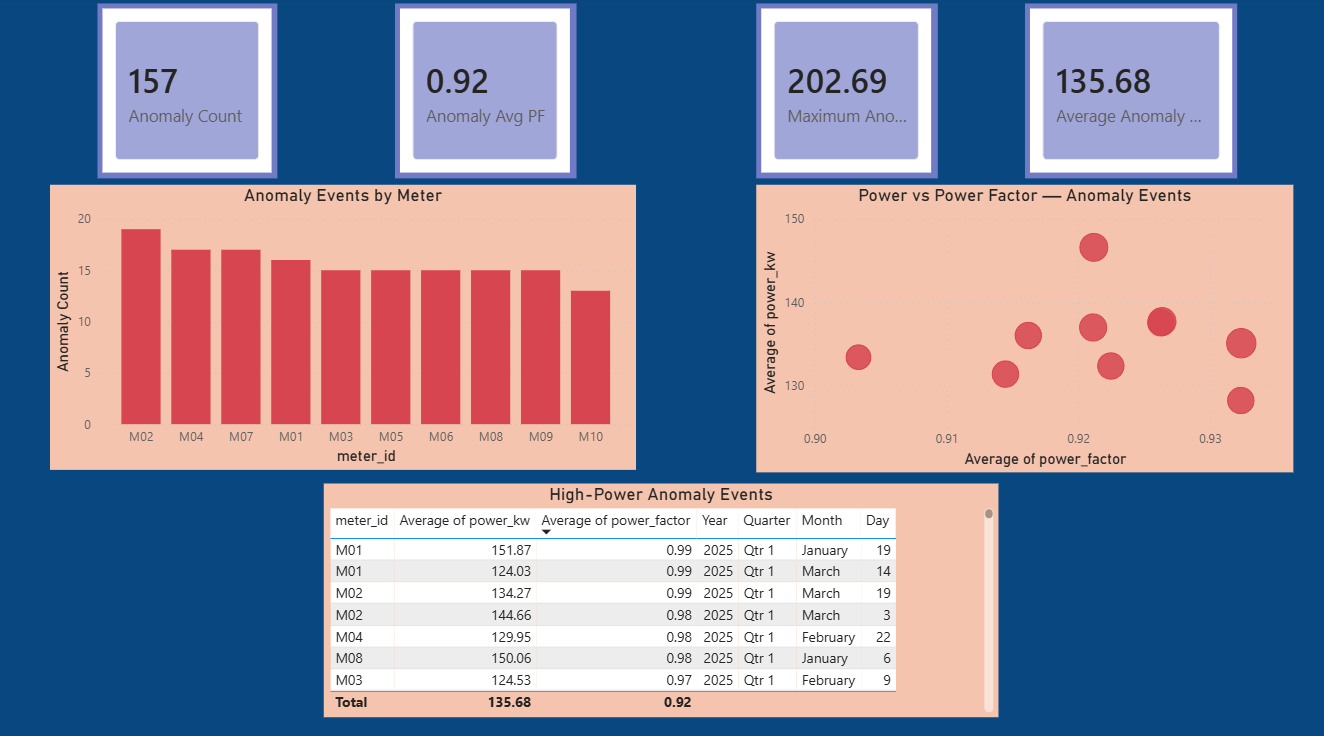

What the dashboard file says about the page in this screenshot:
{"tool":"powerbi","page":{"name":"Anomaly & Power Quality","canvas":[1280,720],"ordinal":2},"visuals":[{"type":"cardVisual","fields":{"Data":["anomalies.Anomaly Count"]},"box":[94.1,7.2,173.7,168.9],"z":0},{"type":"cardVisual","fields":{"Data":["anomalies.Anomaly Avg PF"]},"box":[381.2,7.2,174.9,168.9],"z":1},{"type":"cardVisual","fields":{"Data":["anomalies.Maximum Anomaly Power (kW)"]},"box":[729.9,7.2,174.9,168.9],"z":2},{"type":"cardVisual","fields":{"Data":["anomalies.Average Anomaly Power (kW)"]},"box":[989.3,7.2,205.1,168.9],"z":3},{"type":"clusteredColumnChart","title":"Anomaly Events by Meter","fields":{"Category":["anomalies.meter_id"],"Y":["anomalies.Anomaly Count"]},"box":[48.3,182.2,565.8,275.1],"z":4},{"type":"scatterChart","title":"Power vs Power Factor — Anomaly Events","fields":{"X":["Avg(anomalies.power_factor)"],"Y":["Avg(anomalies.power_kw)"],"Category":["anomalies.meter_id"],"Size":["anomalies.Anomaly Count"]},"box":[729.9,182.2,518.8,277.5],"z":5},{"type":"tableEx","title":"High-Power Anomaly Events","fields":{"Values":["anomalies.meter_id","Avg(anomalies.power_kw)","Avg(anomalies.power_factor)","anomalies.timestamp.Variation.Date Hierarchy.Year","anomalies.timestamp.Variation.Date Hierarchy.Quarter","anomalies.timestamp.Variation.Date Hierarchy.Month","anomalies.timestamp.Variation.Date Hierarchy.Day"]},"box":[312.5,470.5,651.5,225.6],"z":6}]}

Visuals, with their boxes in screenshot pixels (x1, y1, x2, y2), scaled from the page's 1280x720 canvas onto the 1324x736 screenshot:
cardVisual - anomalies.Anomaly Count: {"left": 97, "top": 7, "right": 277, "bottom": 180}
cardVisual - anomalies.Anomaly Avg PF: {"left": 394, "top": 7, "right": 575, "bottom": 180}
cardVisual - anomalies.Maximum Anomaly Power (kW): {"left": 755, "top": 7, "right": 936, "bottom": 180}
cardVisual - anomalies.Average Anomaly Power (kW): {"left": 1023, "top": 7, "right": 1235, "bottom": 180}
"Anomaly Events by Meter" clusteredColumnChart: {"left": 50, "top": 186, "right": 635, "bottom": 467}
"Power vs Power Factor — Anomaly Events" scatterChart: {"left": 755, "top": 186, "right": 1292, "bottom": 470}
"High-Power Anomaly Events" tableEx: {"left": 323, "top": 481, "right": 997, "bottom": 712}
